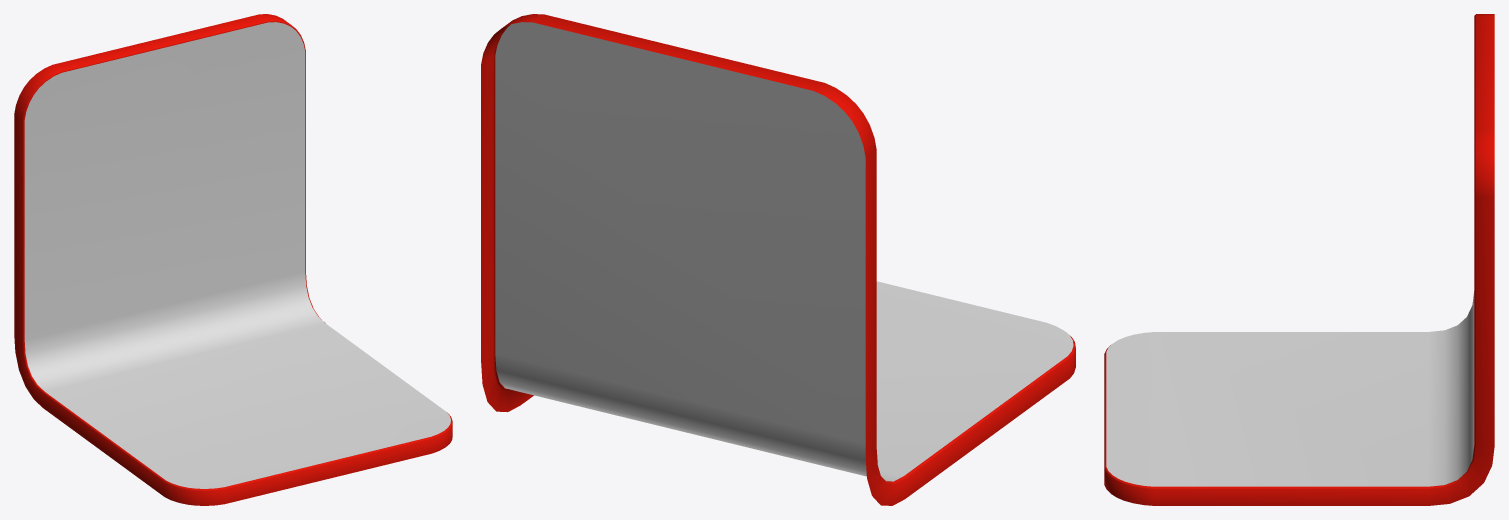
File: Pedestal_v2.glb
3 renders of one model, left to right at view 1: azimuth 30°, elevation 25°; view 2: azimuth 150°, elevation 25°; view 3: azimuth 270°, elevation 25°, orthographic. The views are drawn at different scales.
Visible parts, largest first — view 1: Pedestal; view 2: Pedestal; view 3: Pedestal.
Part boxes in pixels (bbox=[...]): Pedestal: bbox=[14, 14, 452, 505]; Pedestal: bbox=[481, 14, 1075, 505]; Pedestal: bbox=[1104, 14, 1494, 505].
Size of the model in its own units: 2 by 2.11 by 2.11.
